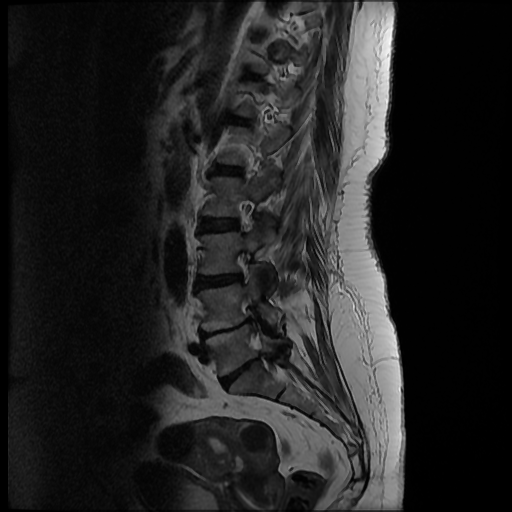LFS0: (224, 192, 262, 241), (225, 241, 262, 290)
